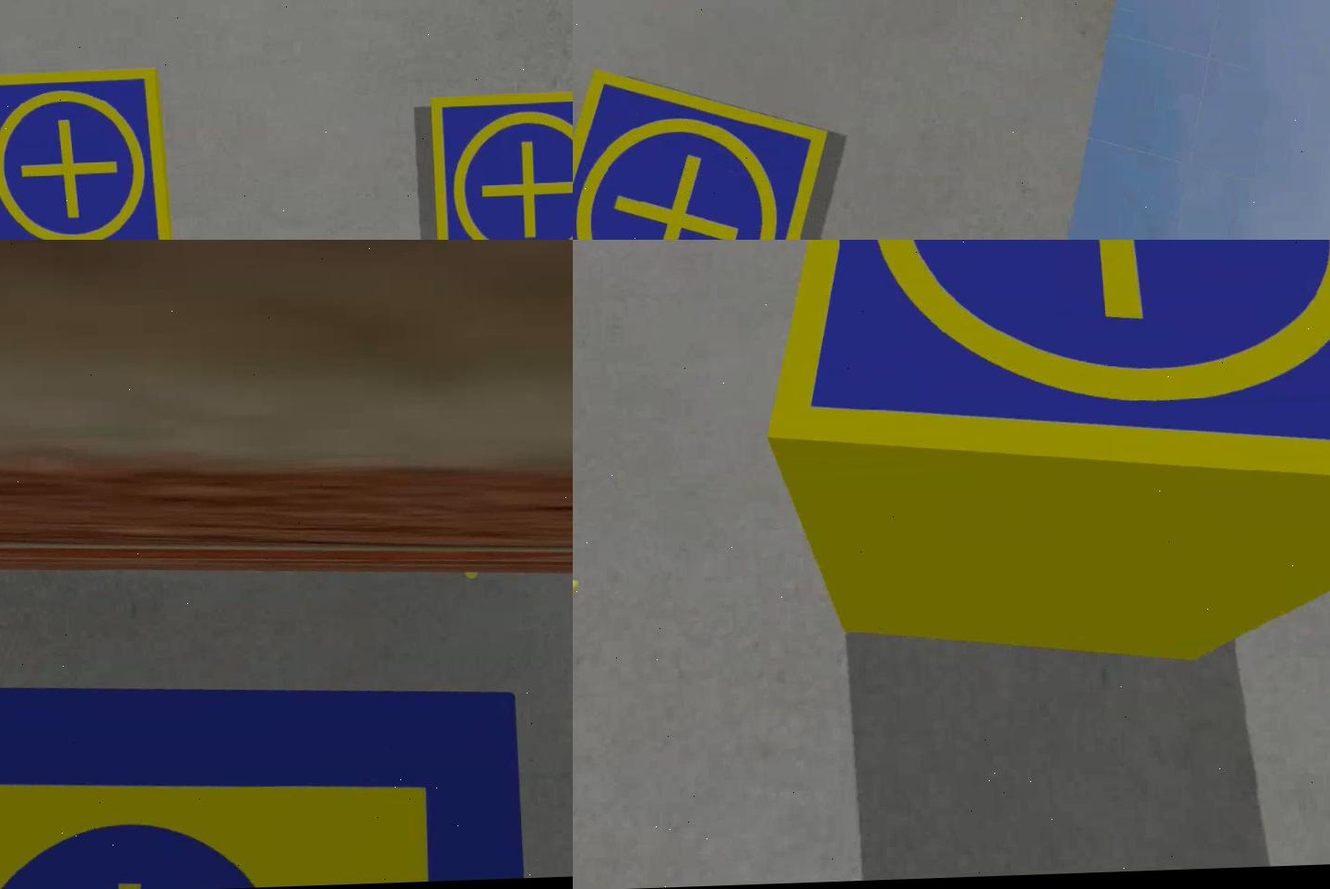large_base: (0, 664, 525, 889)
small_base: (748, 240, 1328, 535), (572, 63, 838, 240), (0, 64, 179, 240), (421, 86, 572, 240)
